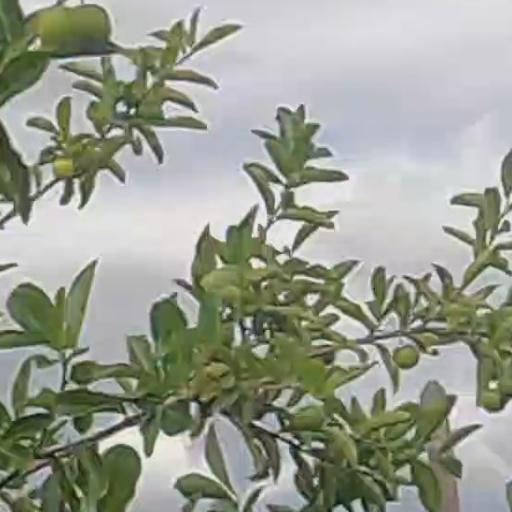acerola: (395, 346, 418, 369)
